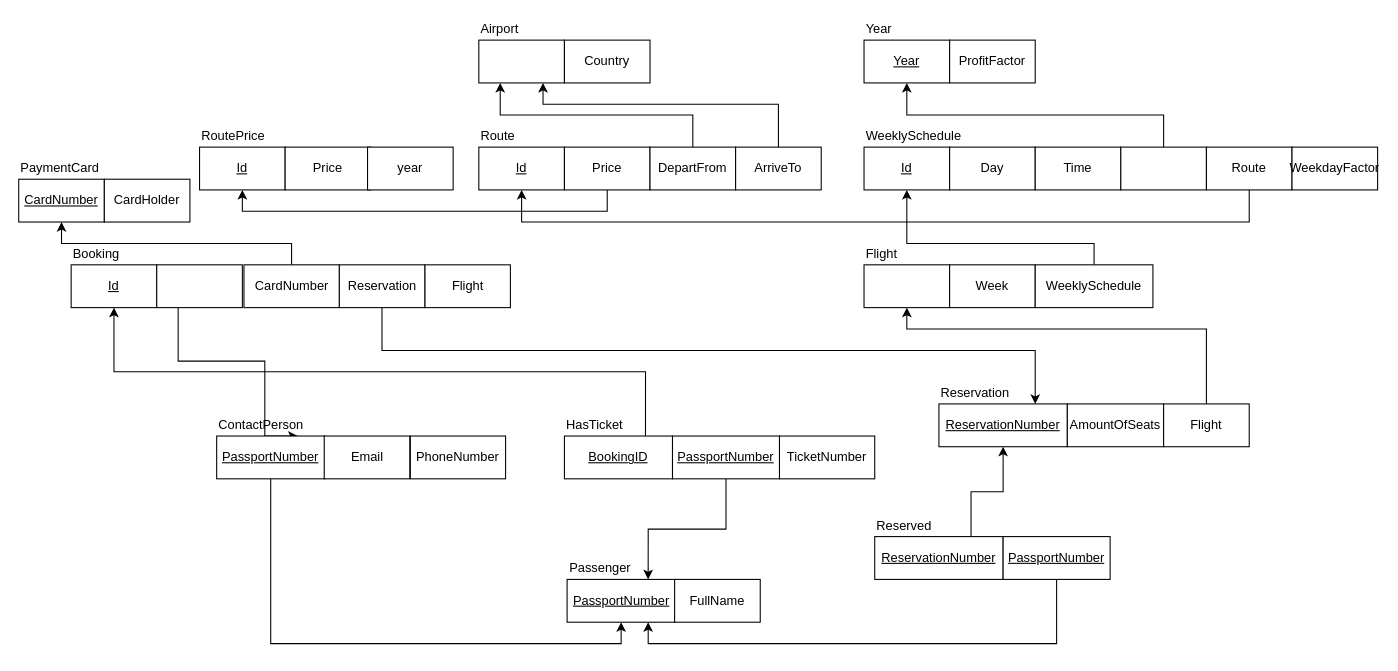
This 1398x671 diagram has some shape labels left out. Each missing label, with the centre of its shape:
"Contact" belongs at [199,286].
"FlightNumber" belongs at [906,286].
"Name" belongs at [521,61].
"Schedule" belongs at [1163,168].
